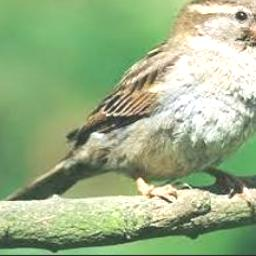Sparrow: (5, 0, 256, 207)
